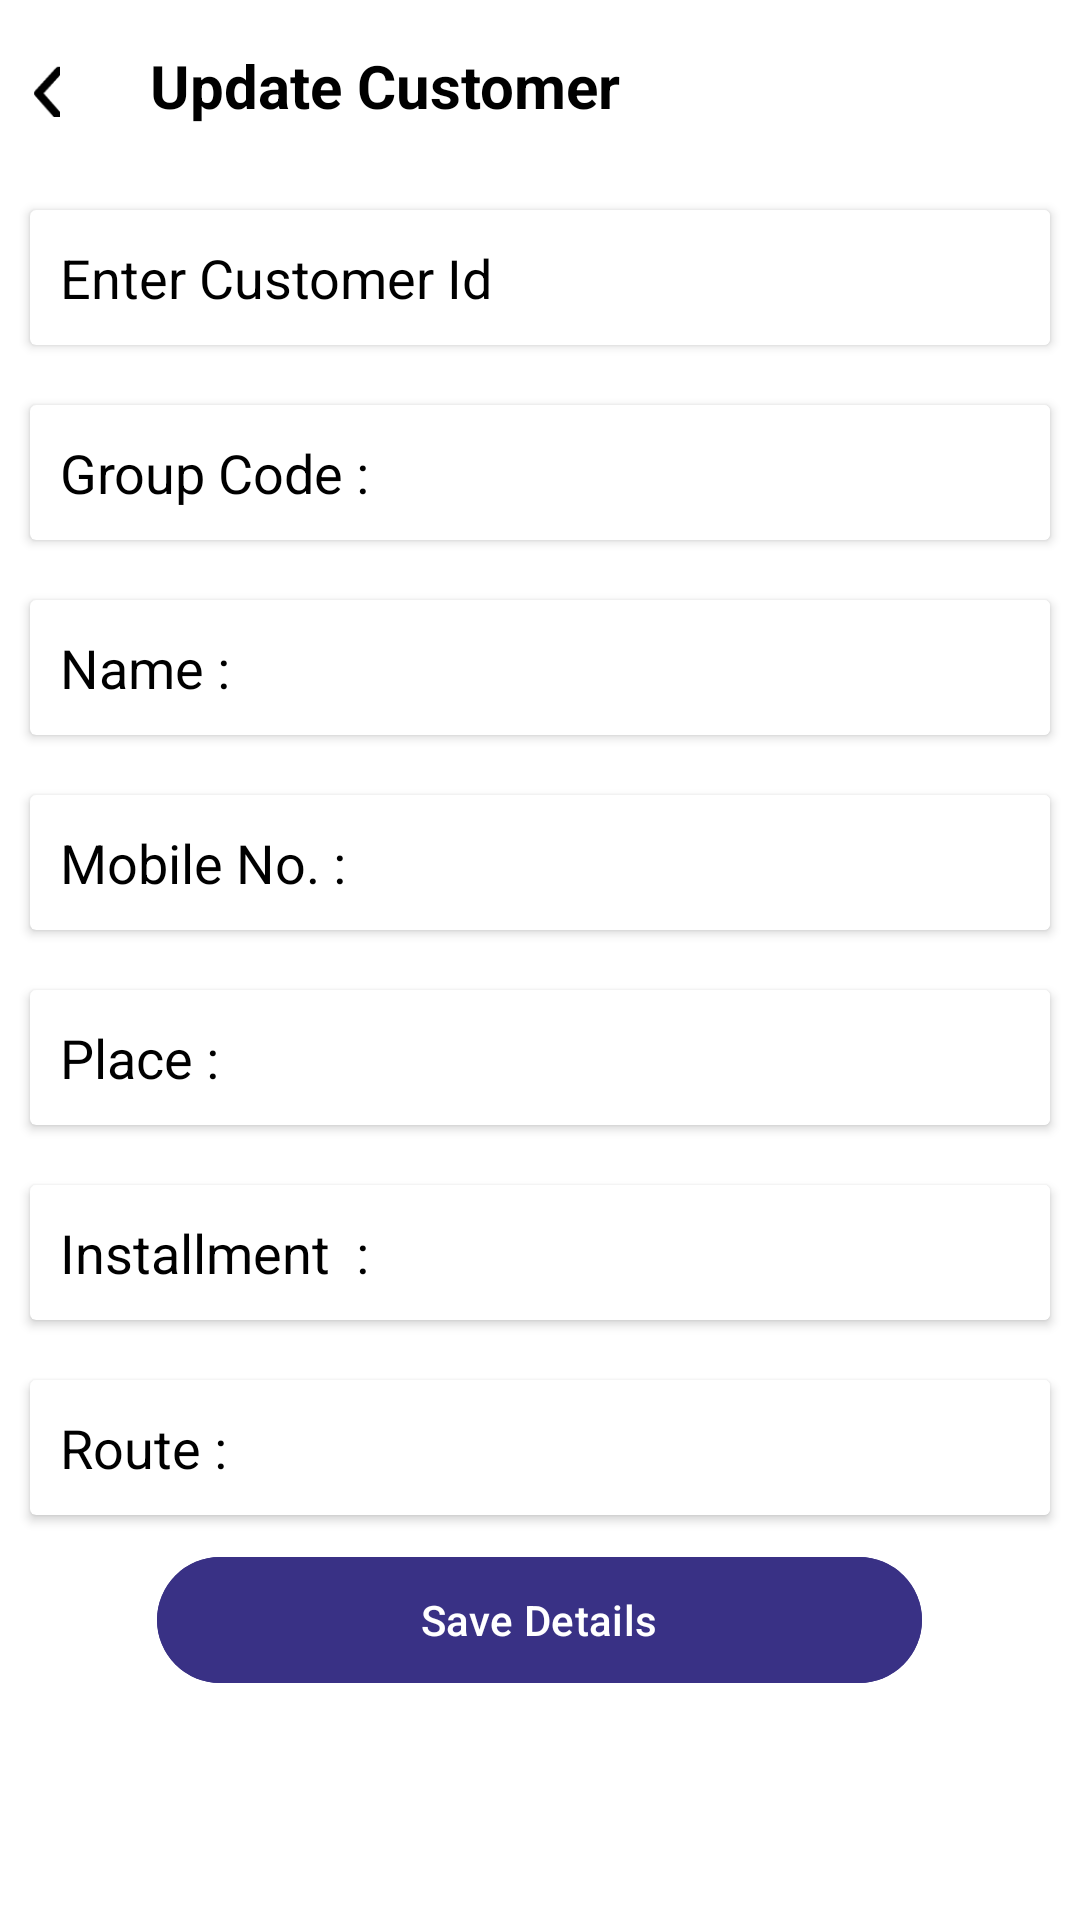

Icon bounding boxes for this 1080px×1920px phone screenshot, format (x1, y1, x2, y2):
arrowback: (34, 66, 60, 117)
